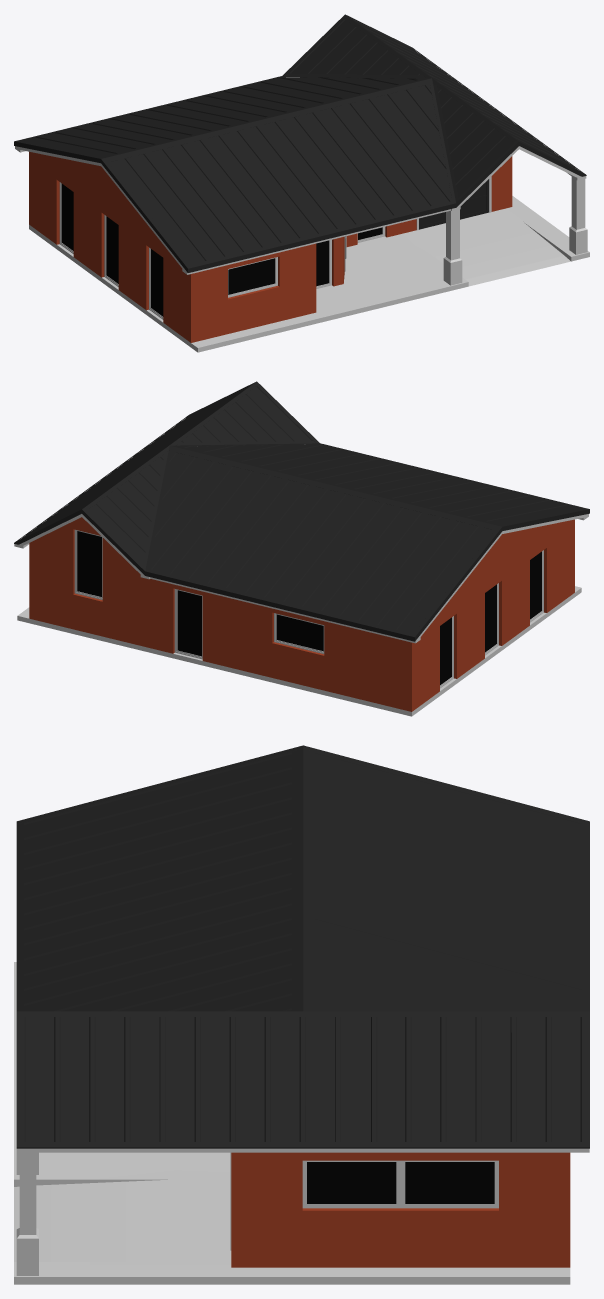
The model's file is House03.fbx.
3 renders of one model, top to bottom at view 1: azimuth 30°, elevation 25°; view 2: azimuth 150°, elevation 25°; view 3: azimuth 270°, elevation 25°, orthographic. The views are drawn at different scales.
Parts seen in each view (by area): view 1: Roof001, Walls, Base, Roof002, RoofCorner, Columns, RoofCorner004, Glass001, RoofStructure001, GarageDoor, RoofCorner001, RoofCorner005 (+10 smaller); view 2: Roof001, Walls, Roof002, Base, RoofCorner, RoofCorner009, Glass010, Glass011, Glass005, RoofStructure001, RoofCorner001, RoofCorner010 (+9 smaller); view 3: Roof001, Roof002, Base, Walls, RoofCorner, RoofCorner008, Glass006, Glass007, RoofCorner001, RoofStructure002, Columns, RoofCorner004 (+7 smaller).
Part boxes in pixels (left/top/right/bottom): Roof001: left=21, top=77, right=452, bottom=264; Walls: left=29, top=151, right=512, bottom=342; Base: left=29, top=196, right=589, bottom=352; Roof002: left=285, top=18, right=578, bottom=197; RoofCorner: left=102, top=78, right=432, bottom=162; Columns: left=443, top=177, right=587, bottom=285; RoofCorner004: left=188, top=200, right=456, bottom=272; Glass001: left=228, top=258, right=275, bottom=294; RoofStructure001: left=15, top=77, right=450, bottom=274; GarageDoor: left=419, top=179, right=488, bottom=229; RoofCorner001: left=345, top=16, right=518, bottom=142; RoofCorner005: left=101, top=158, right=191, bottom=272; Roof001: left=149, top=444, right=582, bottom=633; Walls: left=29, top=517, right=574, bottom=711; Roof002: left=22, top=385, right=313, bottom=564; Base: left=17, top=586, right=581, bottom=716; RoofCorner: left=168, top=445, right=501, bottom=530; RoofCorner009: left=145, top=568, right=414, bottom=641; Glass010: left=177, top=590, right=201, bottom=656; Glass011: left=77, top=531, right=101, bottom=596; Glass005: left=276, top=614, right=323, bottom=651; RoofStructure001: left=150, top=514, right=588, bottom=643; RoofCorner001: left=82, top=383, right=257, bottom=509; RoofCorner010: left=411, top=526, right=502, bottom=641; Roof001: left=24, top=751, right=582, bottom=1011; Roof002: left=24, top=1017, right=582, bottom=1141; Base: left=14, top=962, right=570, bottom=1284; Walls: left=231, top=1152, right=570, bottom=1267; RoofCorner: left=291, top=748, right=314, bottom=1011; RoofCorner008: left=24, top=1142, right=582, bottom=1148; Glass006: left=307, top=1162, right=396, bottom=1203; Glass007: left=405, top=1162, right=494, bottom=1203; RoofCorner001: left=24, top=1011, right=582, bottom=1016; RoofStructure002: left=16, top=1148, right=589, bottom=1152; Columns: left=16, top=1152, right=38, bottom=1275; RoofCorner004: left=16, top=822, right=23, bottom=1011.
Size of the model in its own units: 1369 by 430 by 1033.
